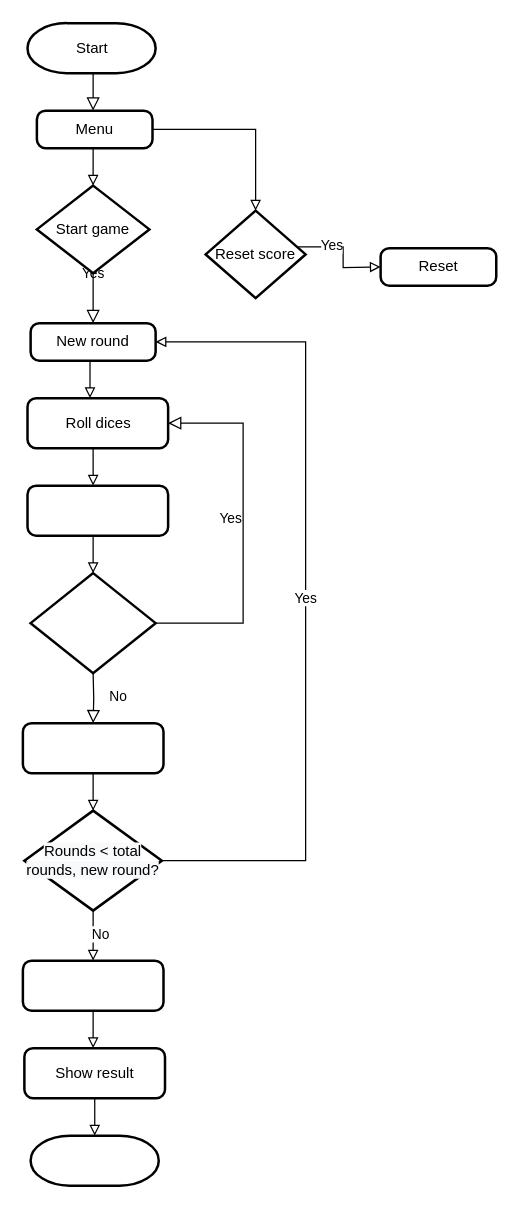
The diagram is 519 pixels wide and 1208 high, and some of its shapes have lost their labels. Each missing label, with the centre of its shape:
End: the point at 94,1160
Rolls < 3, roll again?: the point at 92,622
Save choosen dices: the point at 97,510
Save round: the point at 92,747
Save score: the point at 92,985
